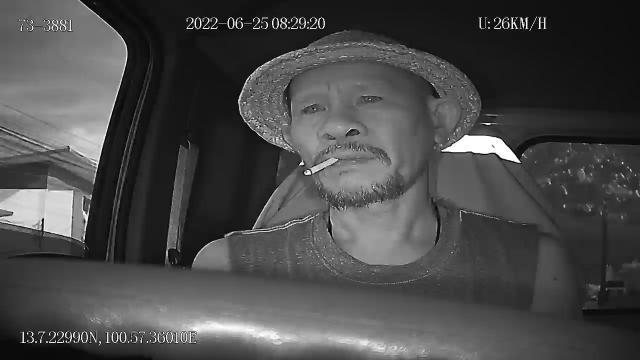SafeDriving: (352, 85, 390, 110), (296, 95, 332, 119)
Smoking: (303, 156, 339, 176)
